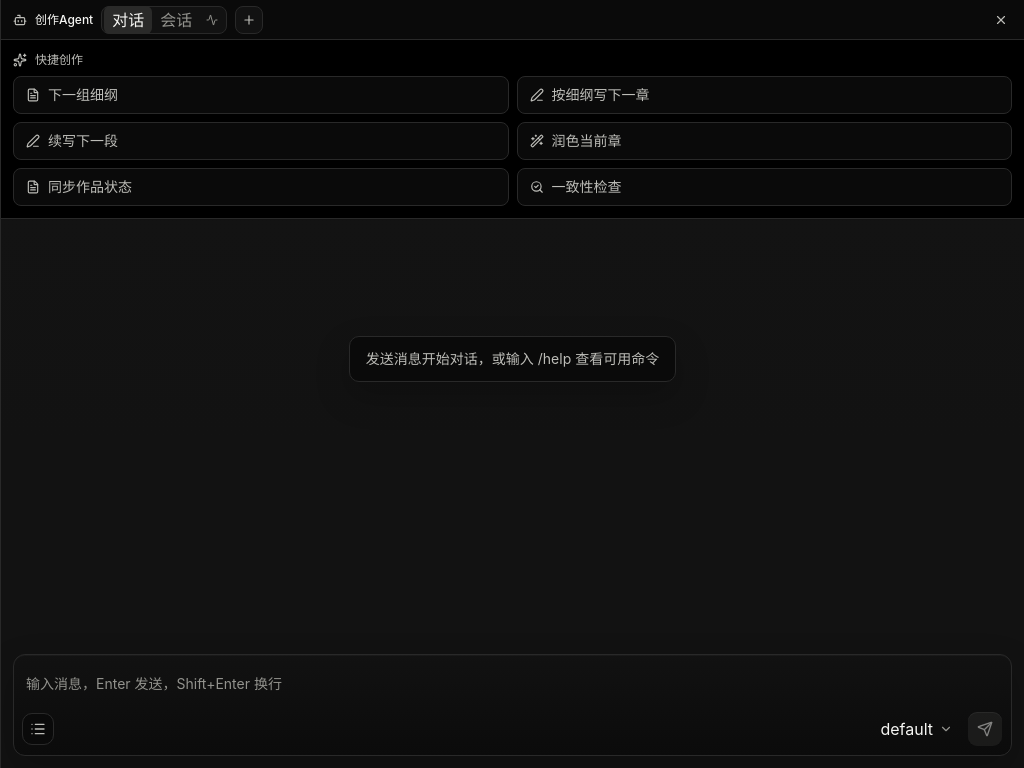
AgentPanel › 创作 Agent 顶部切换器不再展示 Review tab，并在输入选项中切换写作 Skill
The width and height of the screenshot is (1024, 768).
Expected: the button "对话" is shown, [104,6,152,34]
Expected: the button "会话" is shown, [152,6,200,34]
Click the button named "输入动作".
click(38, 729)  # box [22,713,54,745]
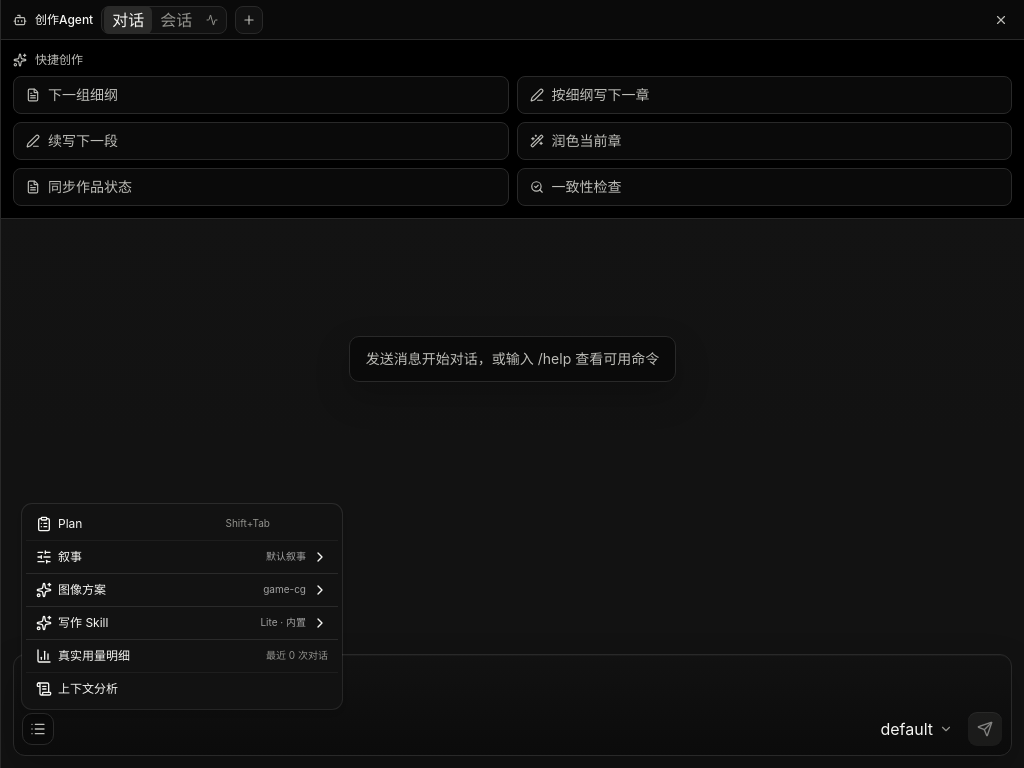
Result: the text "叙事" is shown at [58,549,82,564]
Result: the text "默认叙事" is shown at [266,550,306,564]
Result: the text "写作 Skill" is shown at [58,615,108,630]
